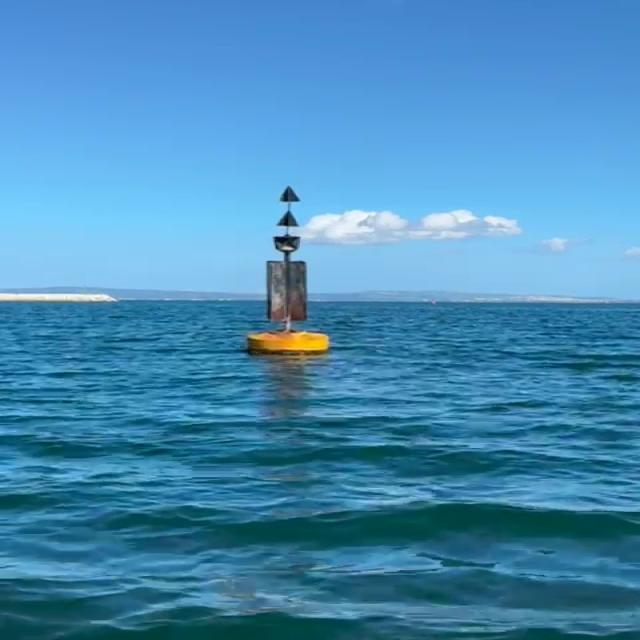marque: (239, 184, 338, 358)
